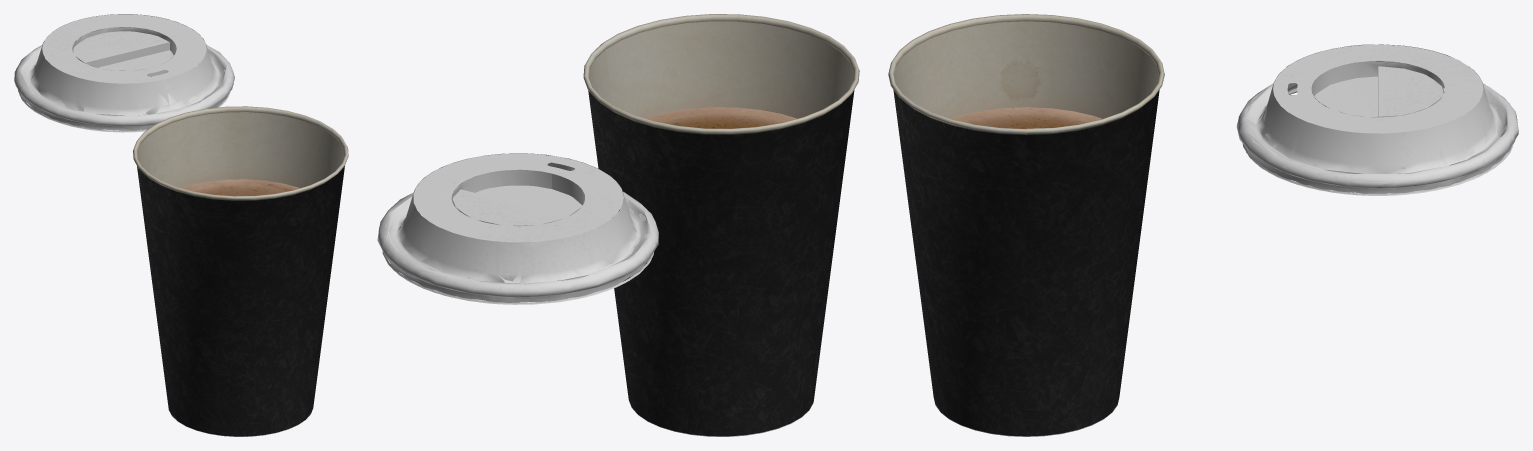
The model's file is CupCoffee.fbx.
The picture shows the model from 3 angles, left to right: view 1: azimuth 30°, elevation 25°; view 2: azimuth 150°, elevation 25°; view 3: azimuth 270°, elevation 25°; orthographic projection. The views are drawn at different scales.
Parts seen in each view (by area): view 1: Cylinder, Cylinder_001, Cylinder_002; view 2: Cylinder, Cylinder_001, Cylinder_002; view 3: Cylinder, Cylinder_001, Cylinder_002.
Boxes of the visible parts, <box> form: Cylinder: <box>133,106,348,436</box>; Cylinder_001: <box>14,14,234,132</box>; Cylinder_002: <box>182,179,299,196</box>; Cylinder: <box>583,14,859,436</box>; Cylinder_001: <box>377,153,658,304</box>; Cylinder_002: <box>646,107,796,128</box>; Cylinder: <box>888,14,1164,436</box>; Cylinder_001: <box>1236,44,1518,195</box>; Cylinder_002: <box>950,107,1102,128</box>.
Size of the model in its own units: 98.37 by 114 by 200.
1 material, 1 textured.
